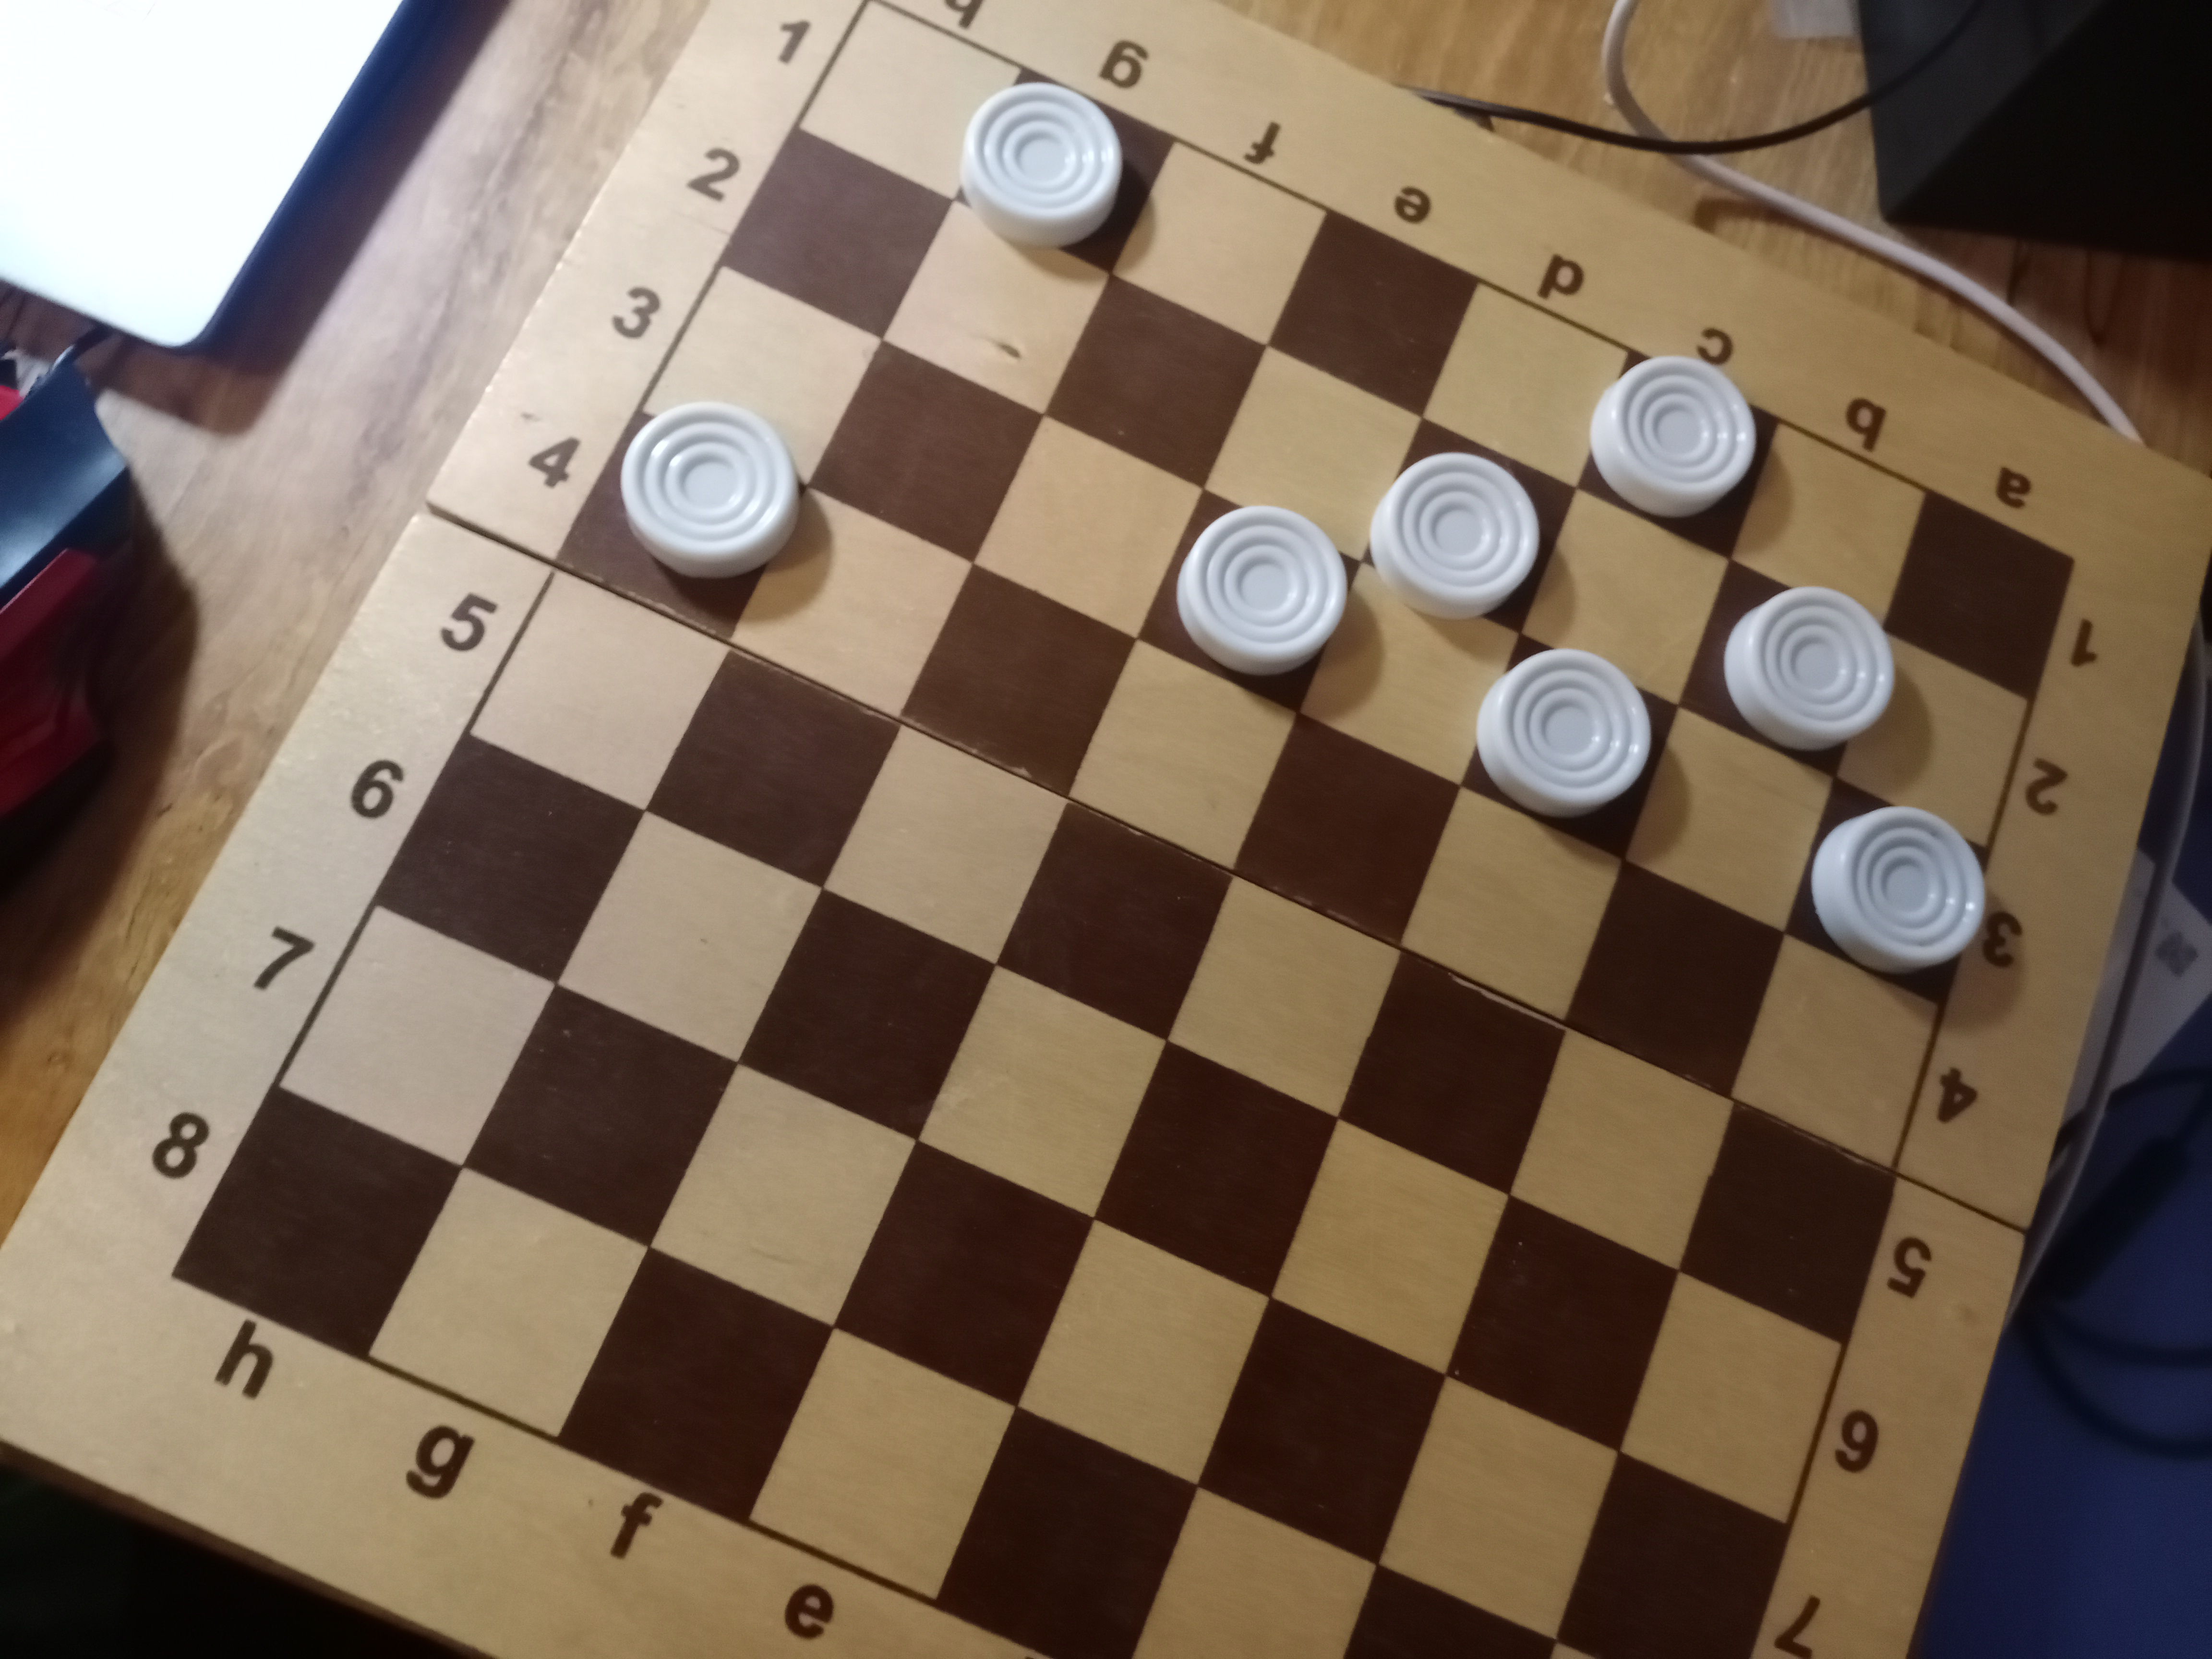White_Draught: (556, 399, 808, 640), (1139, 488, 1362, 713), (1461, 633, 1677, 859), (1679, 561, 1895, 775), (1787, 777, 1987, 1007), (1362, 418, 1576, 633), (956, 68, 1174, 274), (1576, 349, 1778, 559)
